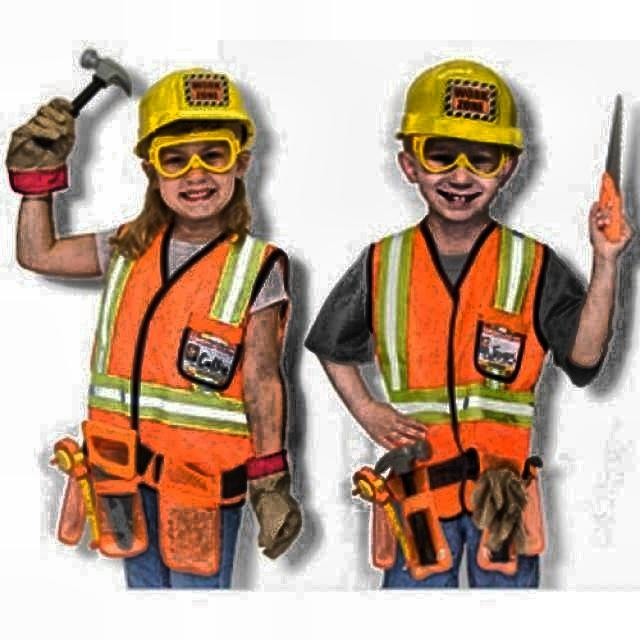safety_jacket: (84, 221, 292, 504), (369, 222, 550, 518)
